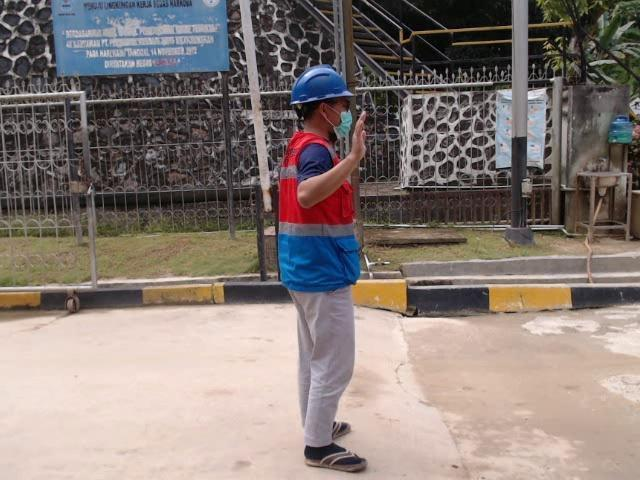helmet: (287, 62, 355, 105)
